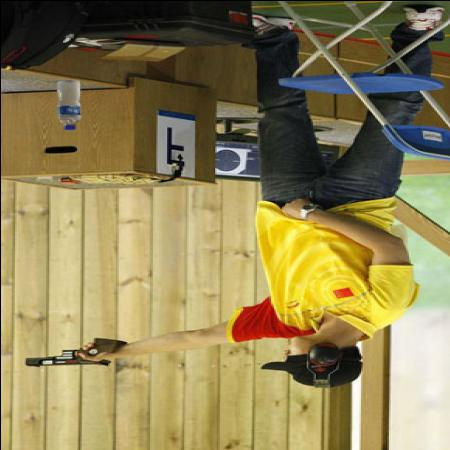Pistol: (22, 339, 124, 368)
